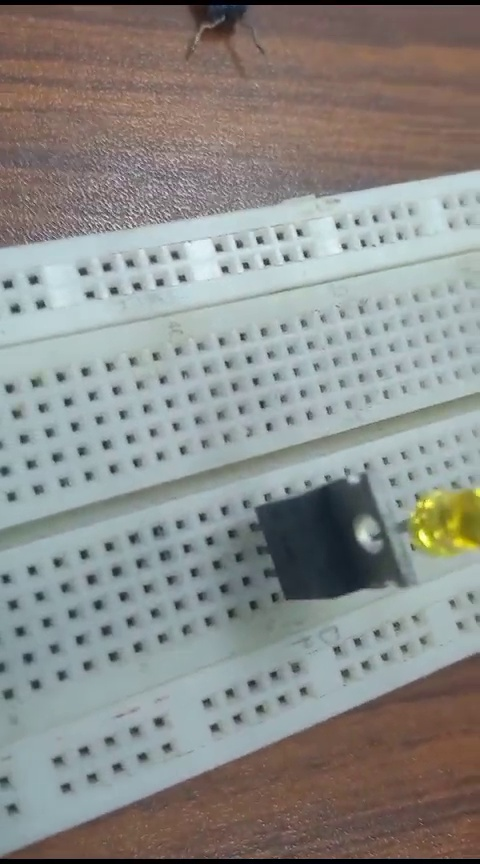LED: (420, 479, 480, 571)
voltage regulator: (247, 480, 410, 616)
